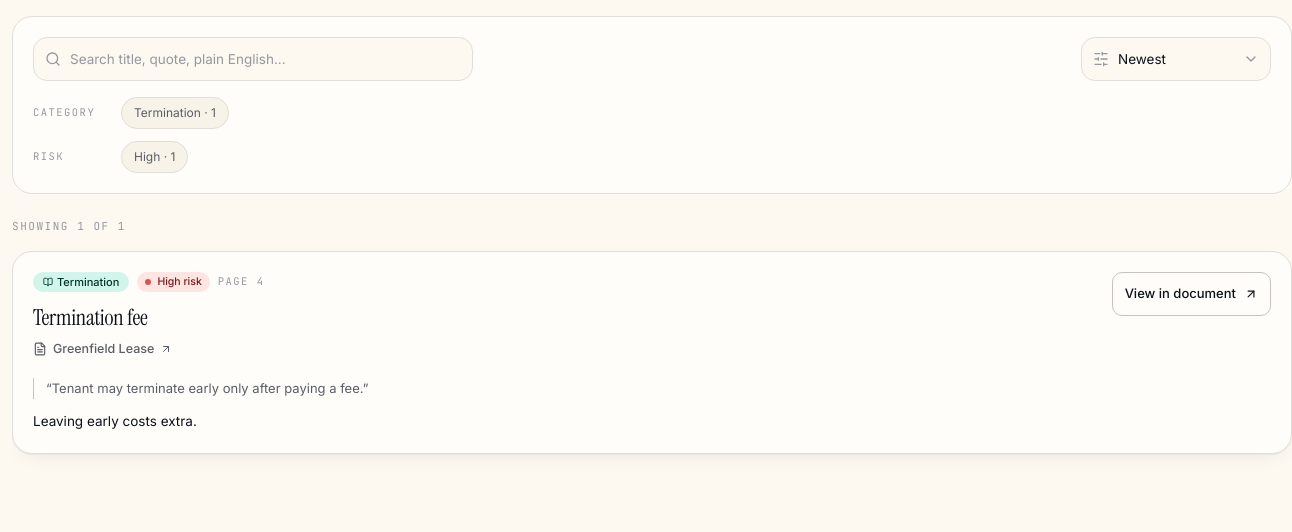
Scenario: ClauseLibrary › debounces search before fetching filtered clauses
Type "termination" into the field with placeholder "Search title, quote, plain English..." at (253, 59), box [33, 37, 473, 81]
Wait 200 ms
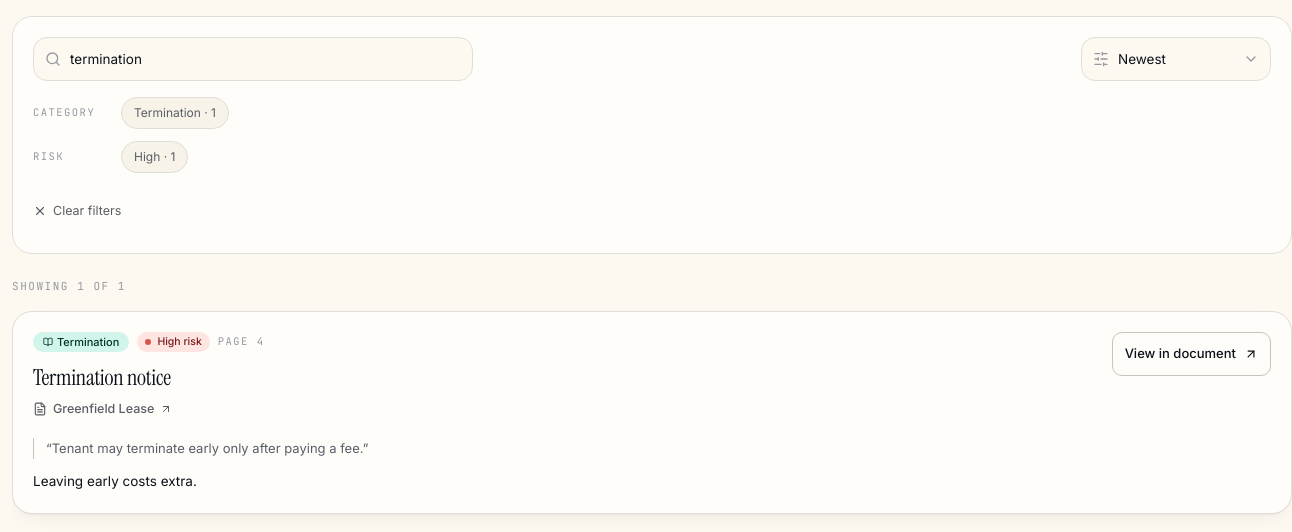
Now the heading "Termination notice" is shown, box [33, 363, 171, 392]
